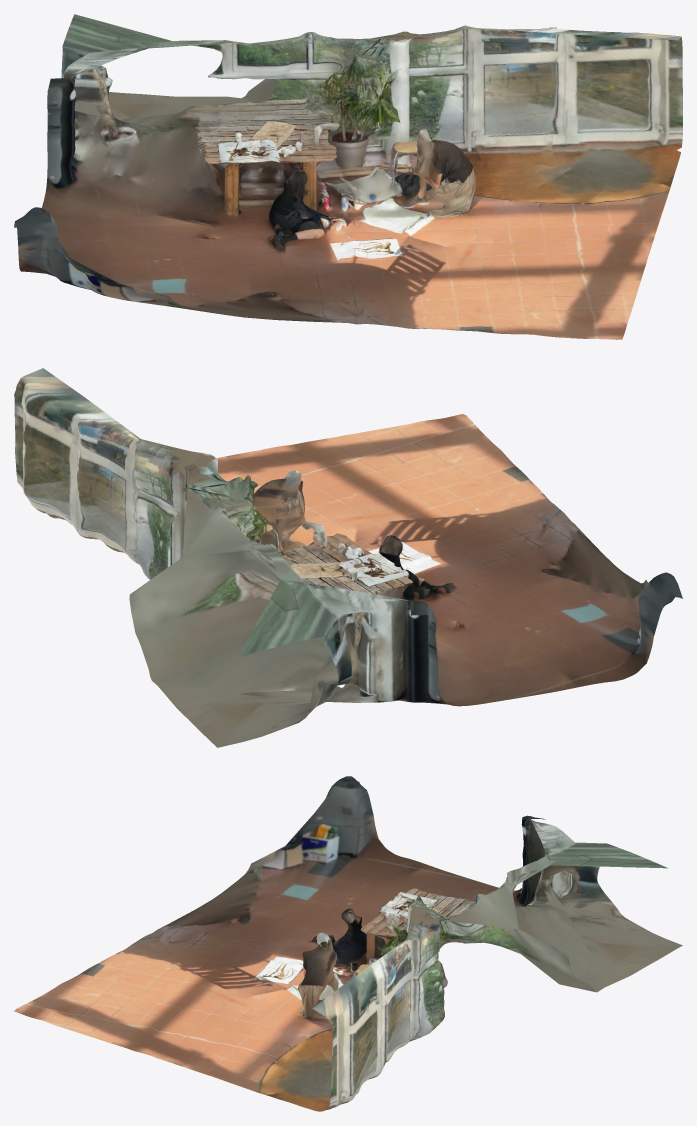
3 views of the same model, one above another, from view 1: azimuth 30°, elevation 25°; view 2: azimuth 150°, elevation 25°; view 3: azimuth 270°, elevation 25° (orthographic). The views are drawn at different scales.
Parts seen in each view (by area): view 1: photogrammetry; view 2: photogrammetry; view 3: photogrammetry.
Part boxes in pixels (x1,y1,x2,y2): photogrammetry: [14, 14, 682, 339]; photogrammetry: [14, 368, 682, 747]; photogrammetry: [14, 776, 682, 1111].
Bounding box in the file's own units: 7.13 × 1.36 × 7.34.
1 material, 1 textured.
